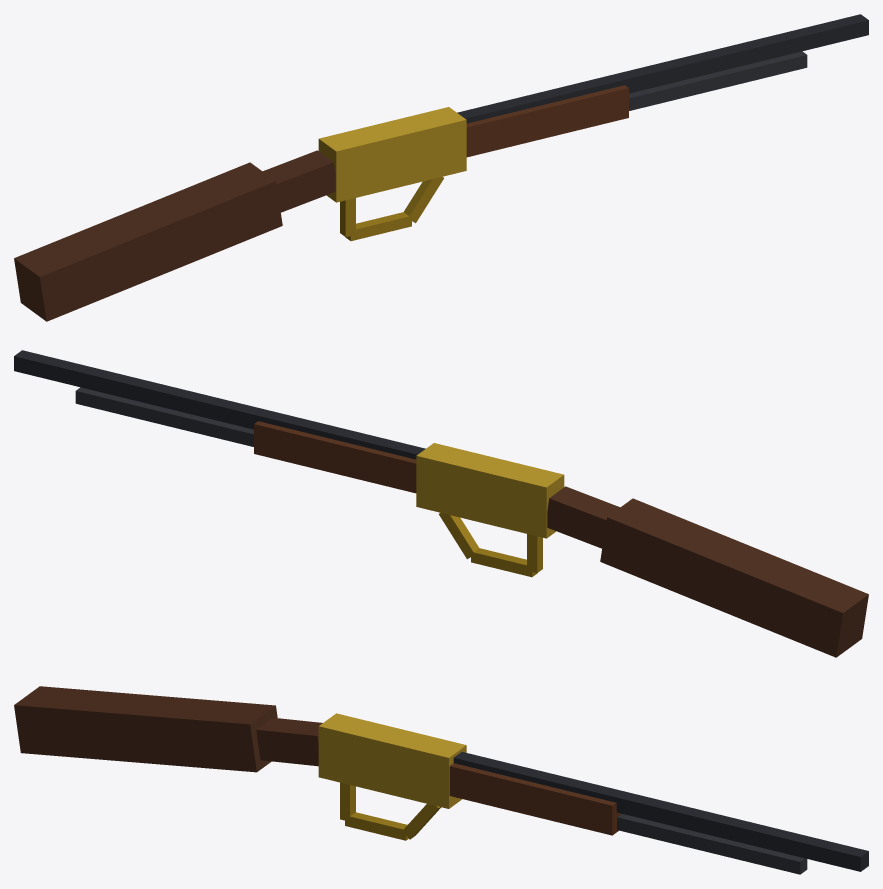
The picture shows the model from 3 angles, top to bottom: view 1: azimuth 30°, elevation 25°; view 2: azimuth 150°, elevation 25°; view 3: azimuth 330°, elevation 25°; orthographic projection.
Visible parts, largest first — view 1: baked; view 2: baked; view 3: baked.
Part boxes in pixels (<box>): baked: <box>14,14,868,321</box>; baked: <box>14,350,868,657</box>; baked: <box>14,686,868,874</box>.
Size of the model in its own units: 2.06 by 0.2325 by 0.11.
